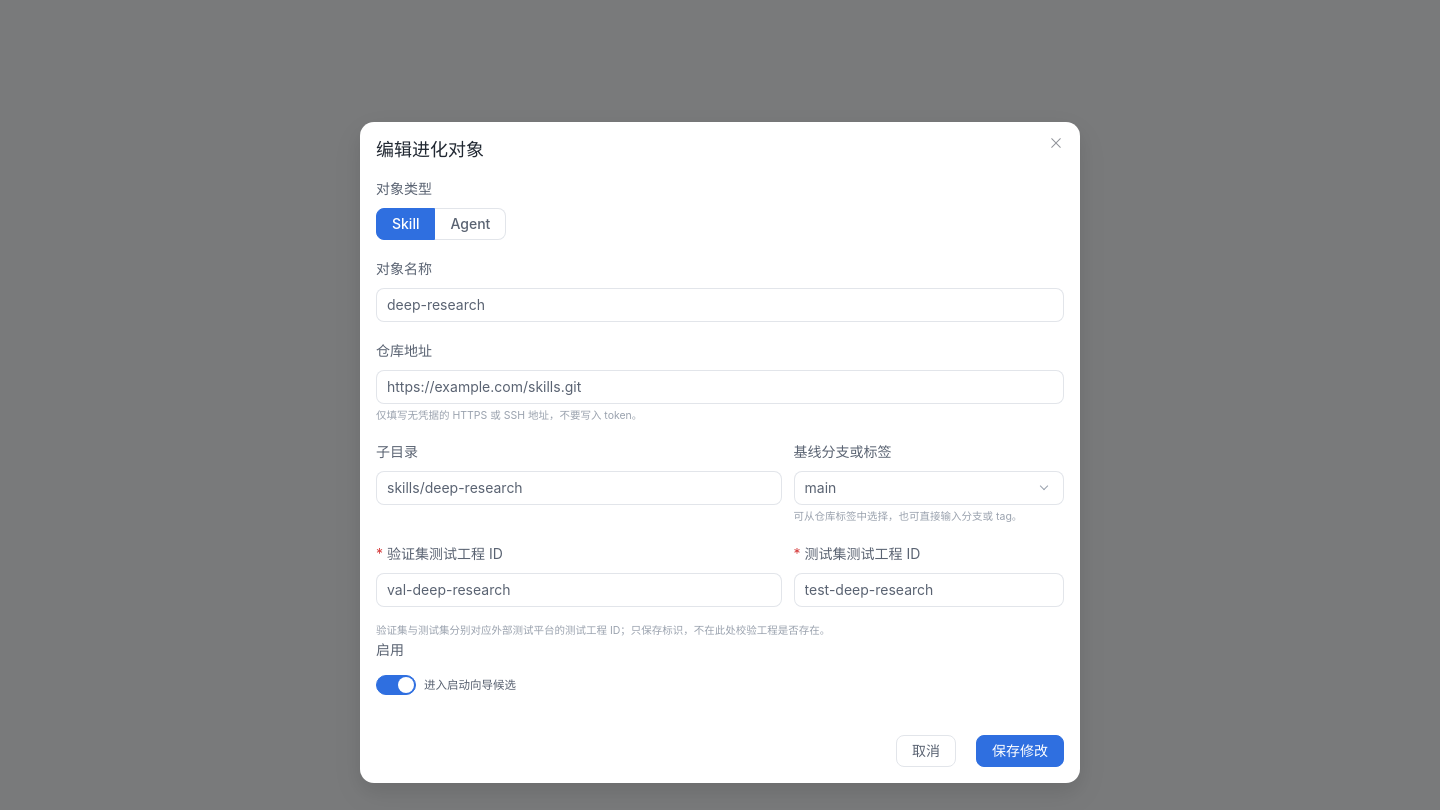
TargetFormDialog › marks tag suggestions as saved-config data when the draft repo changes
The width and height of the screenshot is (1440, 810).
Replace the text in the field named "repoUrl" with "https://example.com/changed.git". click: (720, 386)
box: [387, 372, 1053, 402]
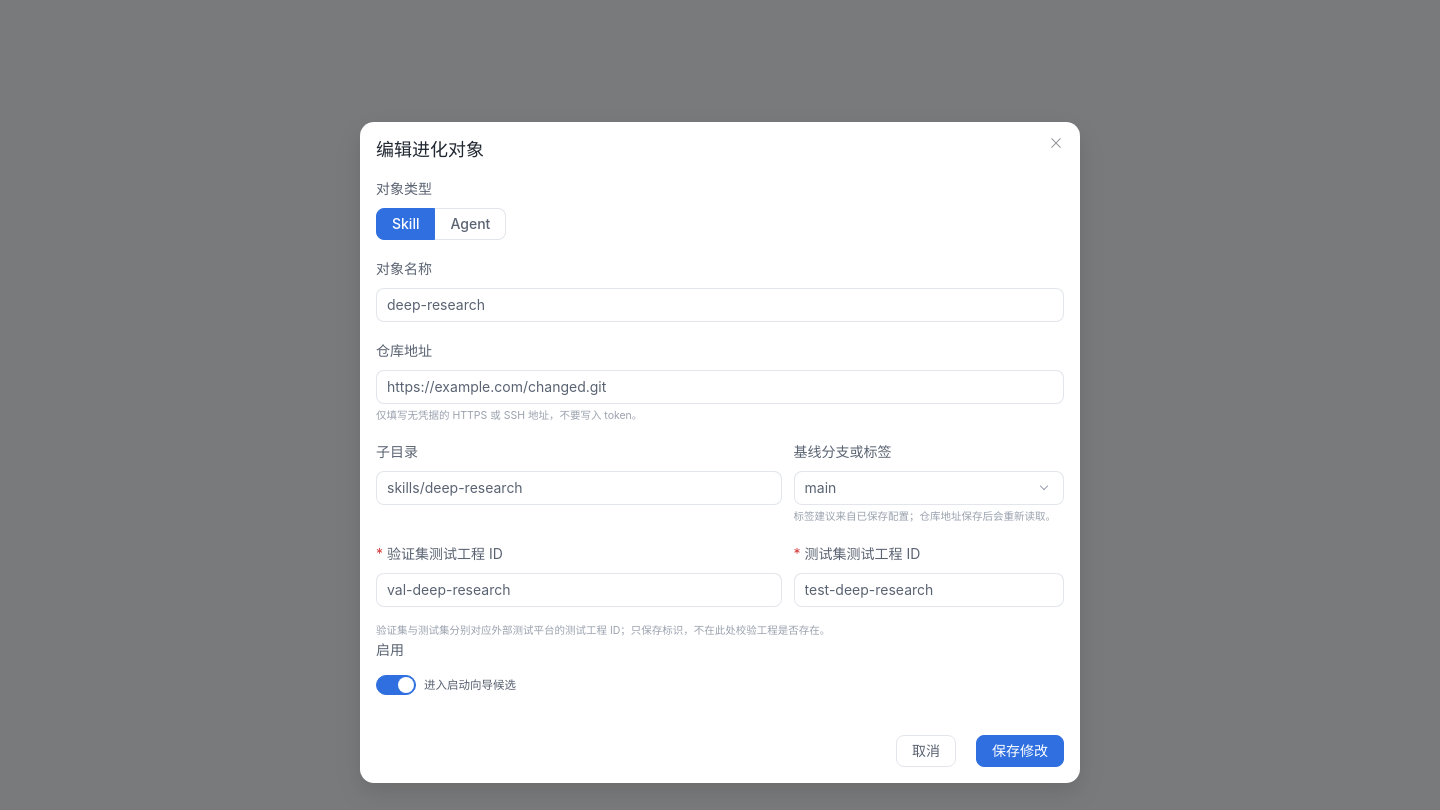
Expected: the text "标签建议来自已保存配置" is shown, [794, 510, 1056, 523]
